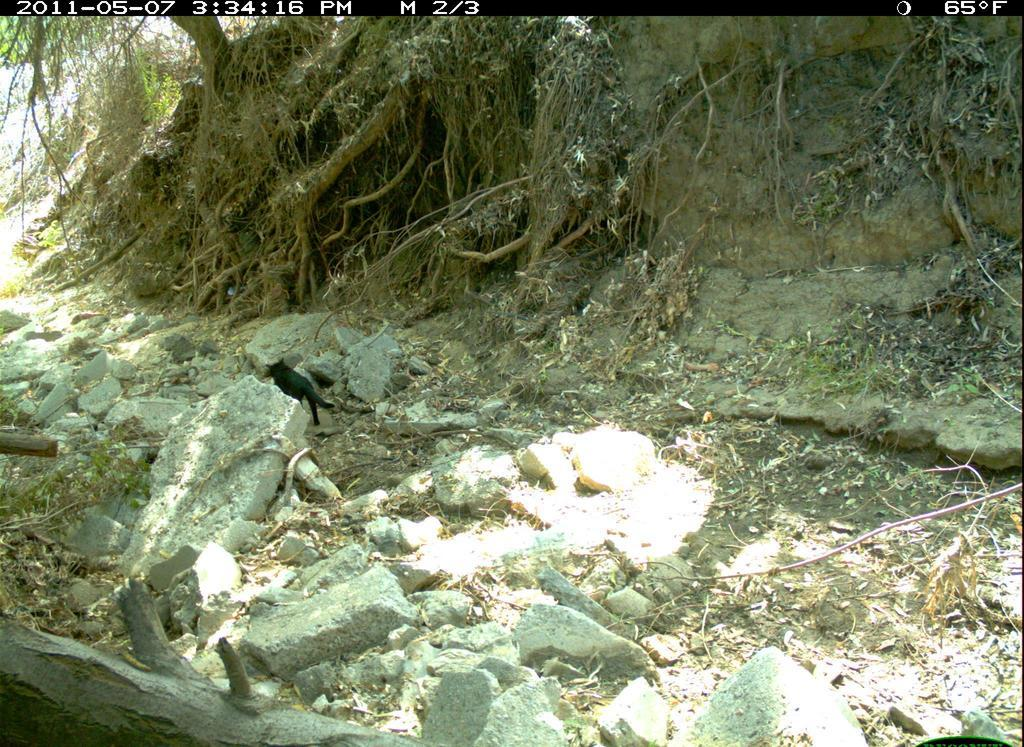cat: (255, 349, 344, 431)
